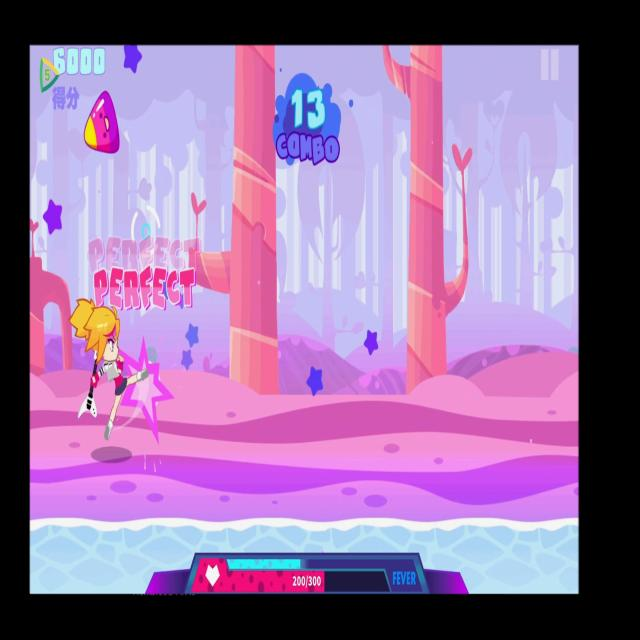jian: (82, 88, 132, 168)
